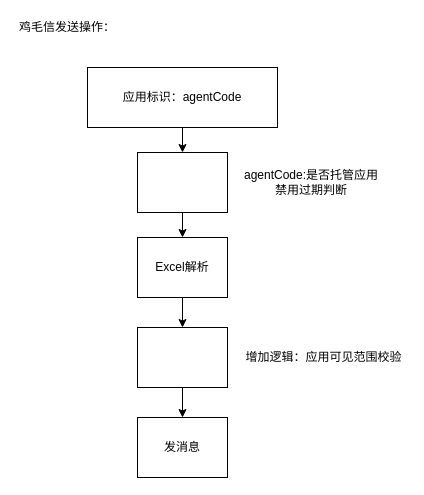
This 424x495 diagram has some shape labels left out. The centre of each missing label's shape, as x and y in pixels:
"数据校验" belongs at (182,357).
"权限校验" belongs at (182,182).
